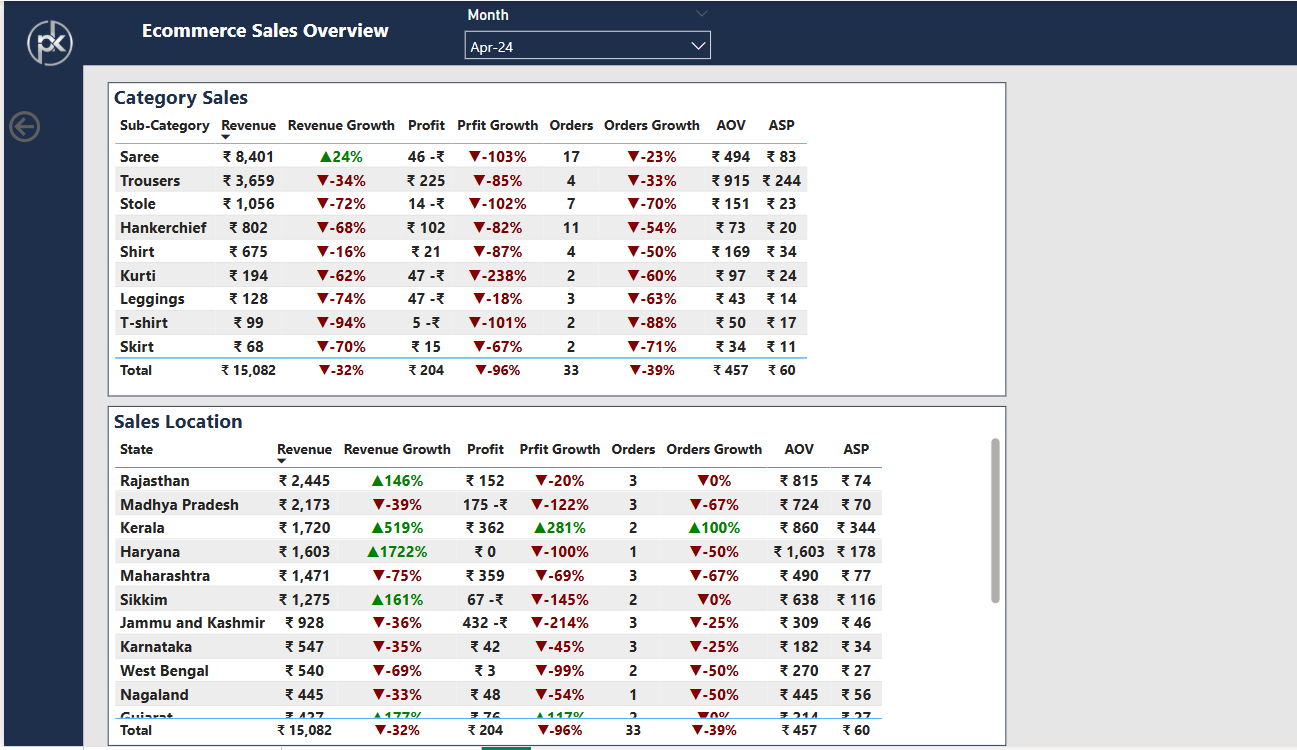

The page's visual inventory and layout, read from the dashboard file:
{"tool":"powerbi","page":{"name":"category-drillthrough","canvas":[1280,720],"ordinal":1},"visuals":[{"type":"shape","box":[0,62,76.5,657.9],"z":0},{"type":"shape","box":[0,0,1279.7,62],"z":1000},{"type":"textbox","box":[100.1,9.7,304,42.2],"z":2000},{"type":"slicer","fields":{"Values":["Calendar.Month"]},"box":[434.3,0,258.3,62],"z":3000},{"type":"tableEx","title":"Category Sales","fields":{"Values":["Dim Cat and Sub cat.Sub-Category","Details.Revenue","Details.Revenue Growth Icon","Details.Profit gain","Details.Prfit Growth icon","Details.Orders","Details.Orders Growth icon","Details.AOV","Details.ASP"]},"box":[100.1,78.4,867.4,302.8],"z":4000},{"type":"actionButton","box":[0,101.3,76,39.8],"z":5000},{"type":"tableEx","title":"Sales Location","fields":{"Values":["State and City Dim.State","Details.Revenue","Details.Revenue Growth Icon","Details.Profit gain","Details.Prfit Growth icon","Details.Orders","Details.Orders Growth icon","Details.AOV","Details.ASP"]},"box":[100.1,390.9,867.4,328.2],"z":6000},{"type":"image","box":[0,0,90.5,82],"z":7000}]}

Visuals, with their boxes in screenshot pixels (x1, y1, x2, y2), scaled from the page's 1280x720 canvas onto the 1297x750 screenshot:
shape: crop(0, 65, 78, 749)
shape: crop(0, 0, 1296, 65)
textbox: crop(101, 10, 409, 54)
slicer - Calendar.Month: crop(440, 0, 702, 65)
"Category Sales" tableEx: crop(101, 82, 980, 397)
actionButton: crop(0, 106, 77, 147)
"Sales Location" tableEx: crop(101, 407, 980, 749)
image: crop(0, 0, 92, 85)
